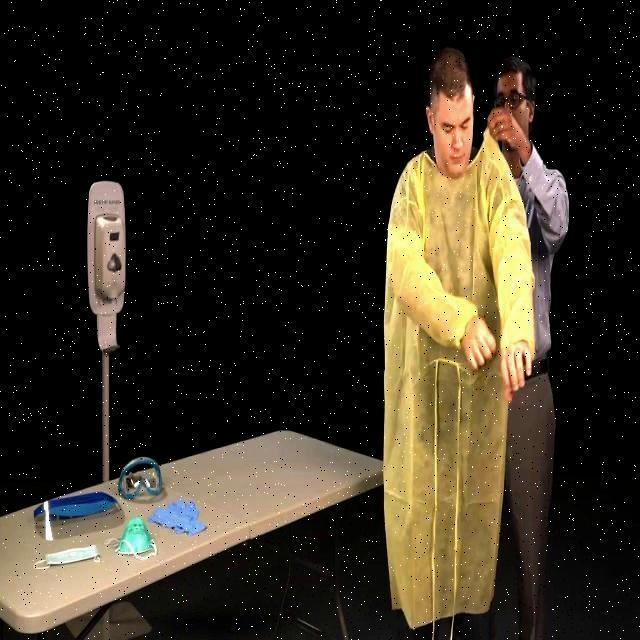no_apron: (499, 342, 537, 410), (464, 314, 489, 372), (483, 104, 512, 154)
no_hairnet: (440, 130, 466, 170)
